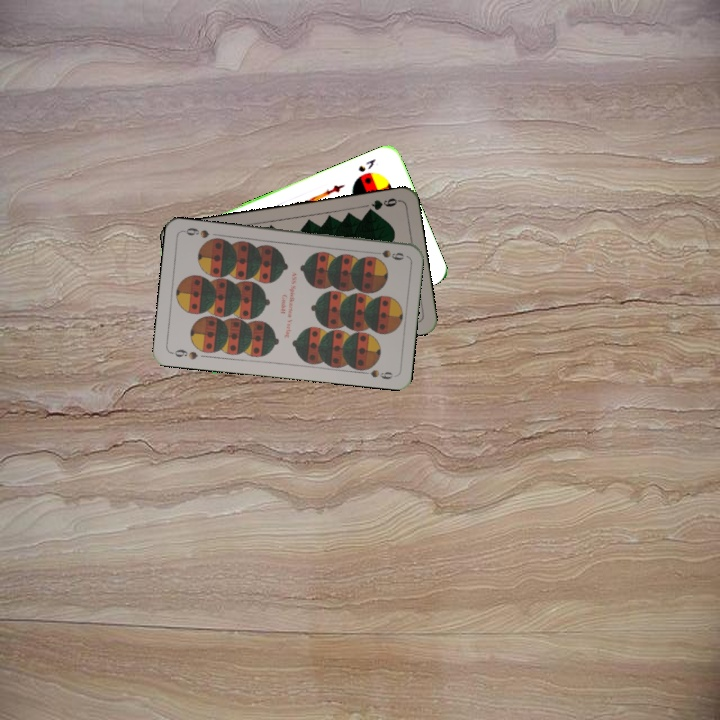G9: (363, 194, 402, 216)
S9: (367, 246, 407, 262), (167, 345, 200, 362)
SK: (354, 155, 378, 175)
